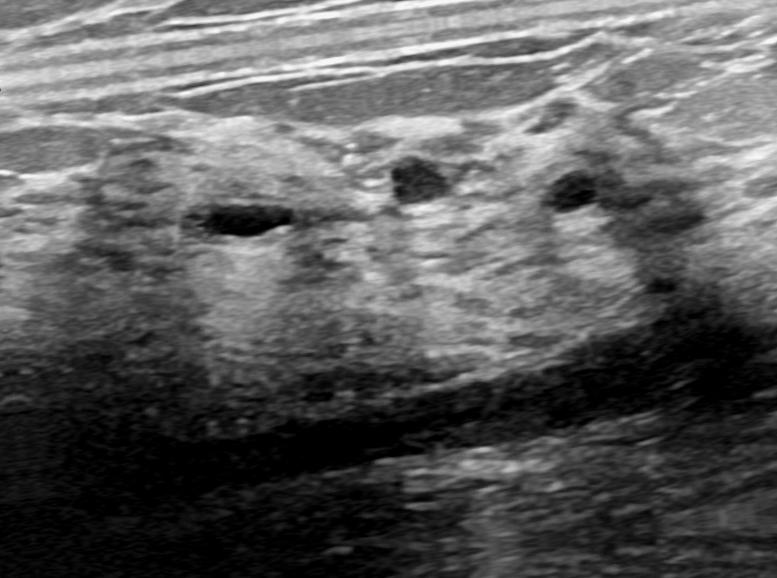Benign: (204, 194, 297, 240), (542, 164, 601, 217)
